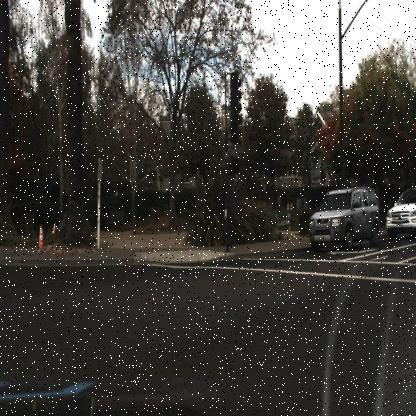car: (309, 186, 381, 251), (386, 187, 415, 242)
